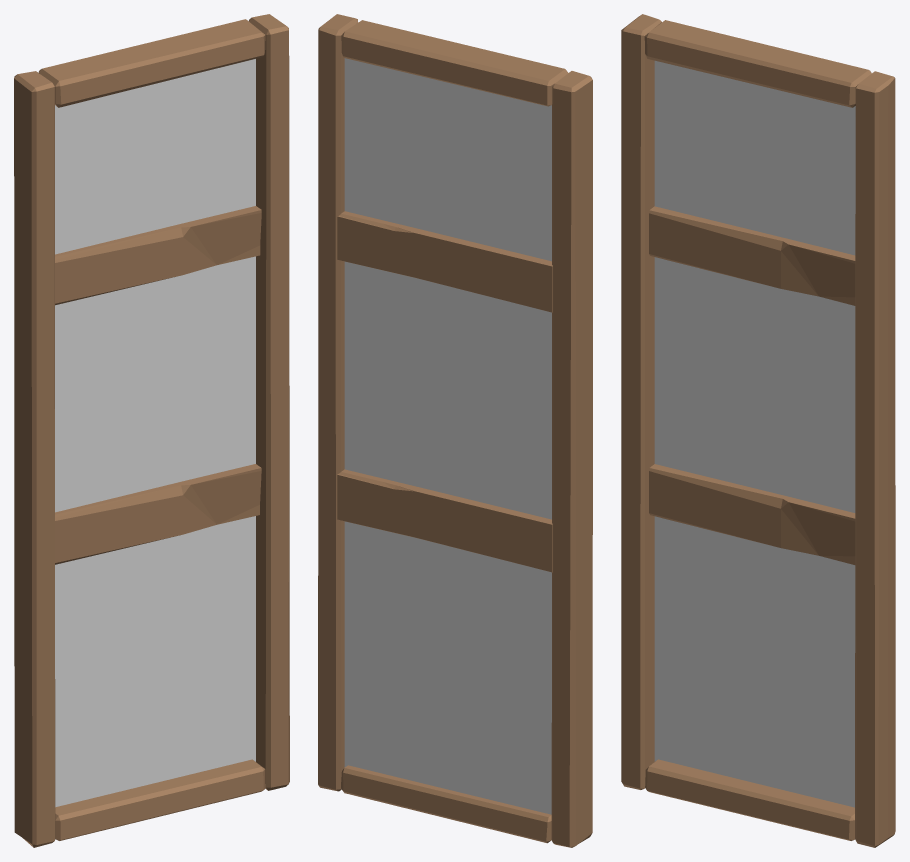
The model's file is PKX_Window_Big_Sash_R.fbx.
3 views of the same model, side by side, from view 1: azimuth 30°, elevation 25°; view 2: azimuth 150°, elevation 25°; view 3: azimuth 330°, elevation 25° (orthographic).
Parts seen in each view (by area): view 1: PKX_Window_Big_Sash_R; view 2: PKX_Window_Big_Sash_R; view 3: PKX_Window_Big_Sash_R.
Boxes of the visible parts, x1,y1,x2,y2 form: PKX_Window_Big_Sash_R: (14,14,289,847); PKX_Window_Big_Sash_R: (318,14,592,847); PKX_Window_Big_Sash_R: (621,14,895,847).
Bounding box in the file's own units: 32.03 × 90.33 × 4.69.
